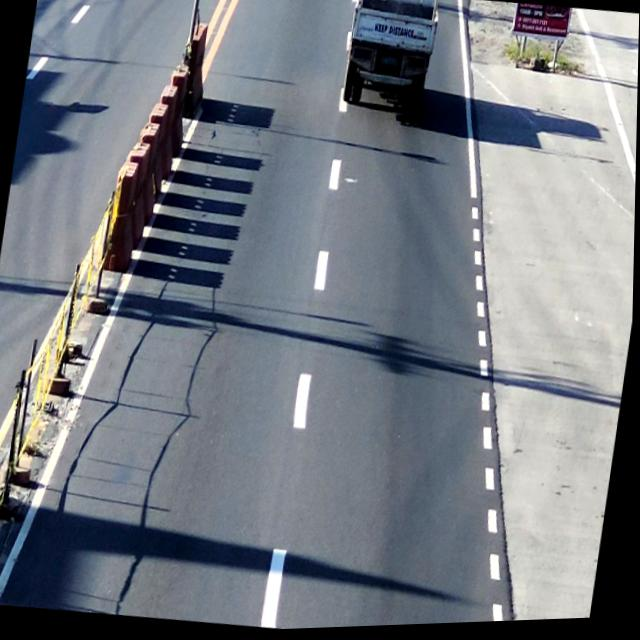Truck: (341, 0, 441, 115)
